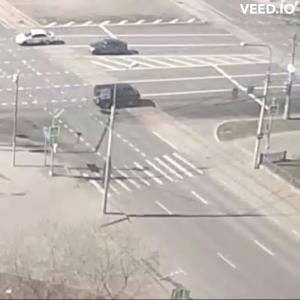car: (96, 82, 144, 110), (90, 40, 139, 58), (16, 31, 66, 48)
